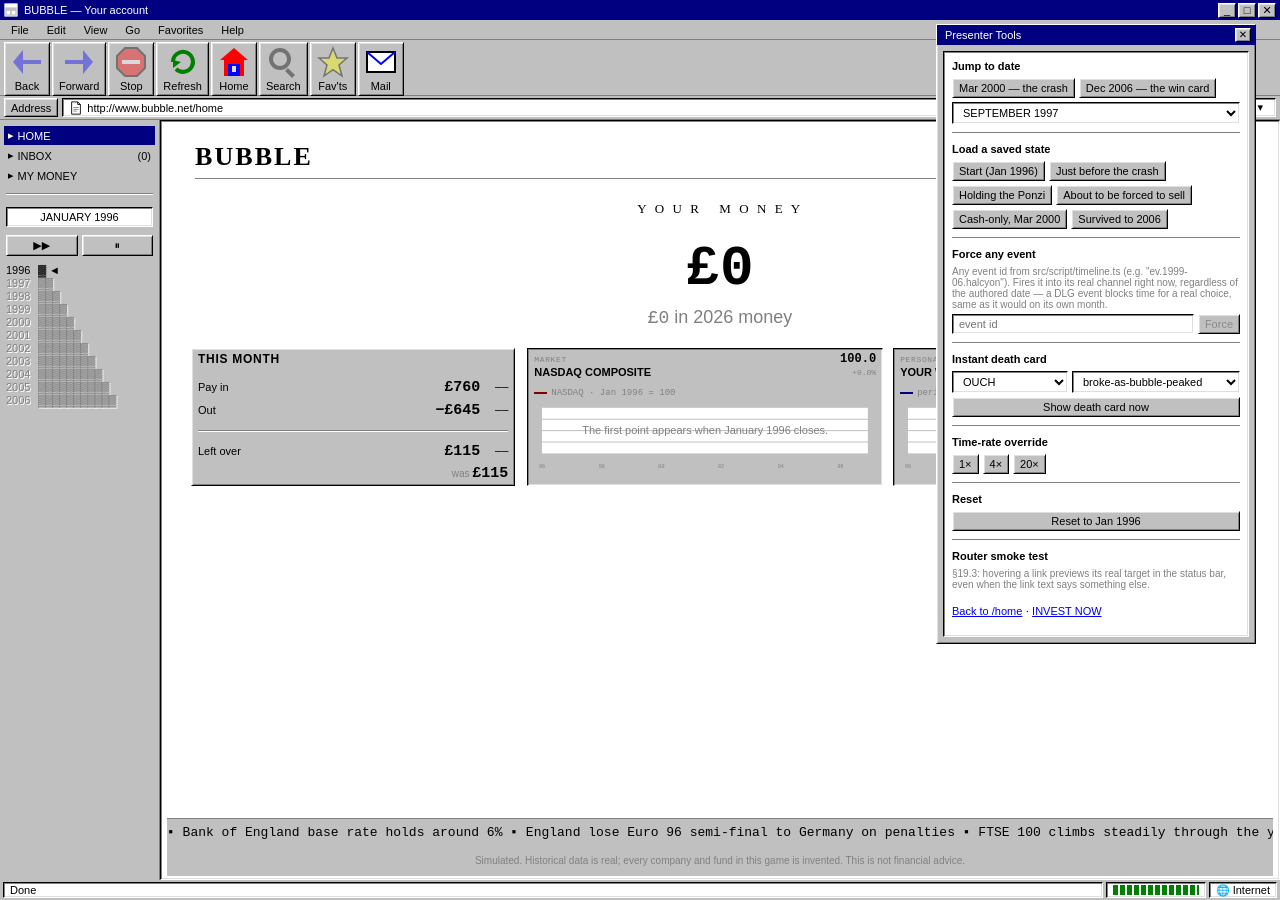
it: §25.5 — the demo path, beat by beat, driven through the real AppShell › Sep 1997 — the £600 shock blocks time and resolves from cash, no dismiss/later button exists
The image size is (1280, 900).
Select "SEPTEMBER 1997" in the dropdown named "Jump to any month" at [1096, 113], box [952,102,1240,124]
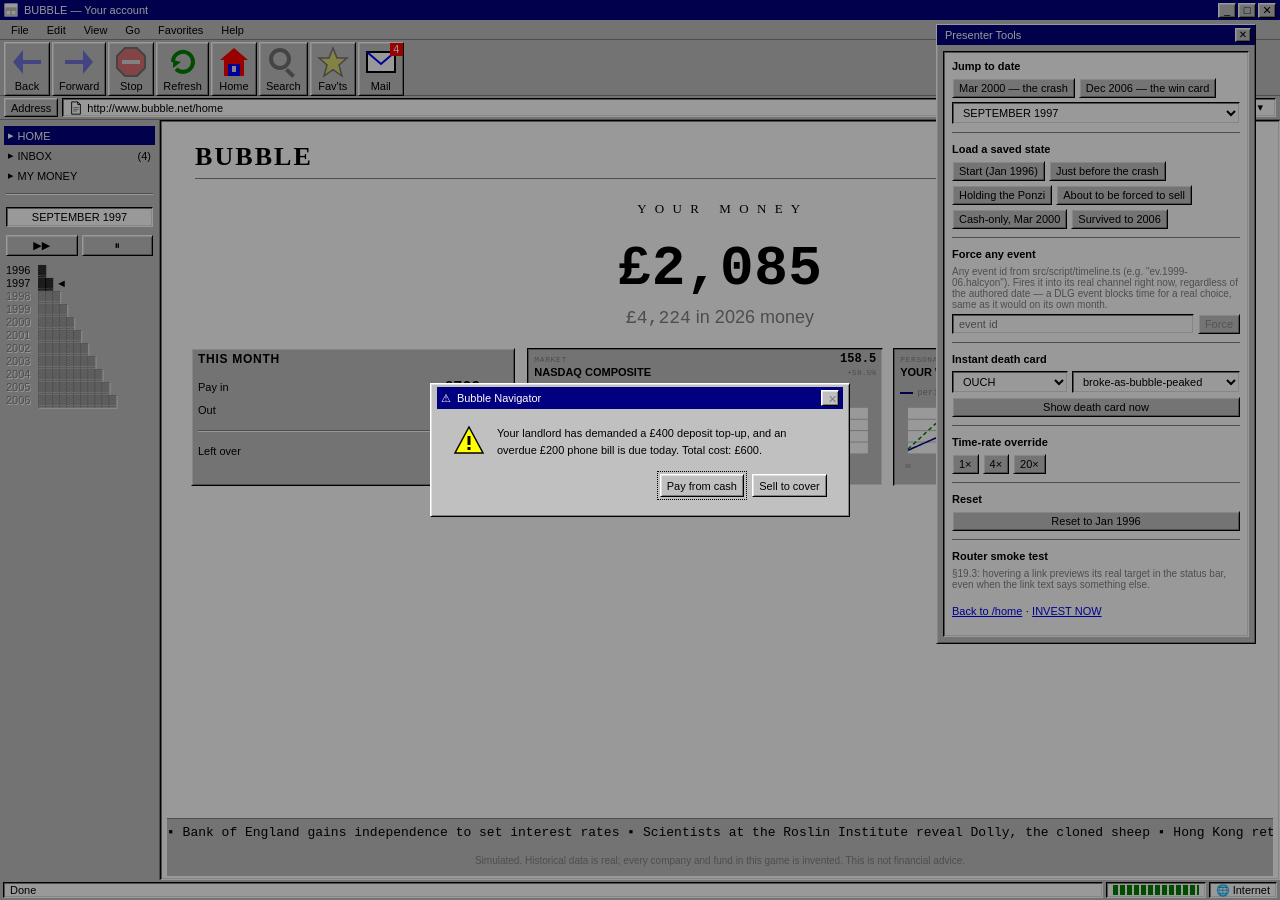
Check: the dialog with class "comet-dialog" is shown, box [430,383,850,517]
Click the button with class "comet-dialog__btn" showing "Pay from cash" at [702, 486], box [660,474,744,497]
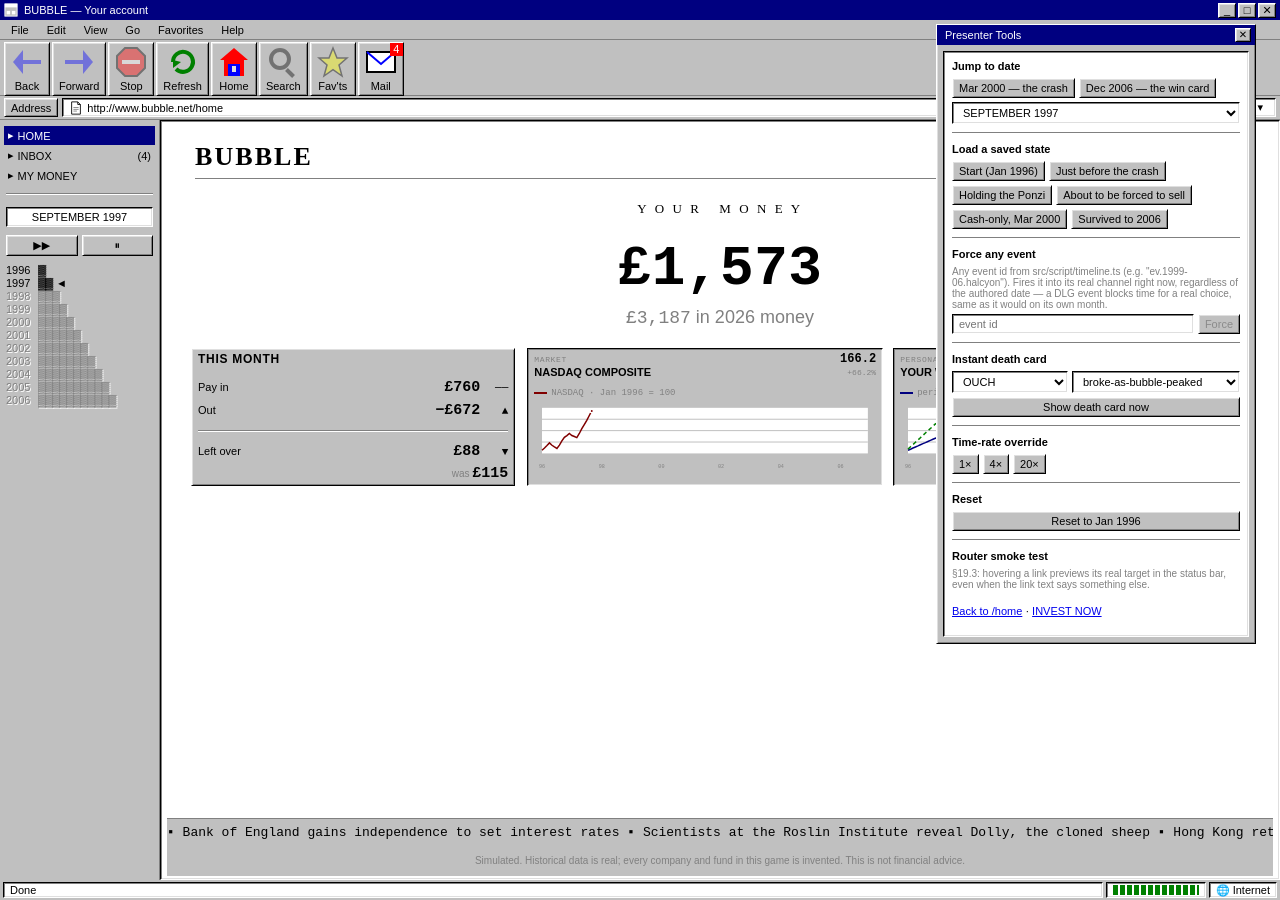
Check: the dialog with class "comet-dialog" is gone
